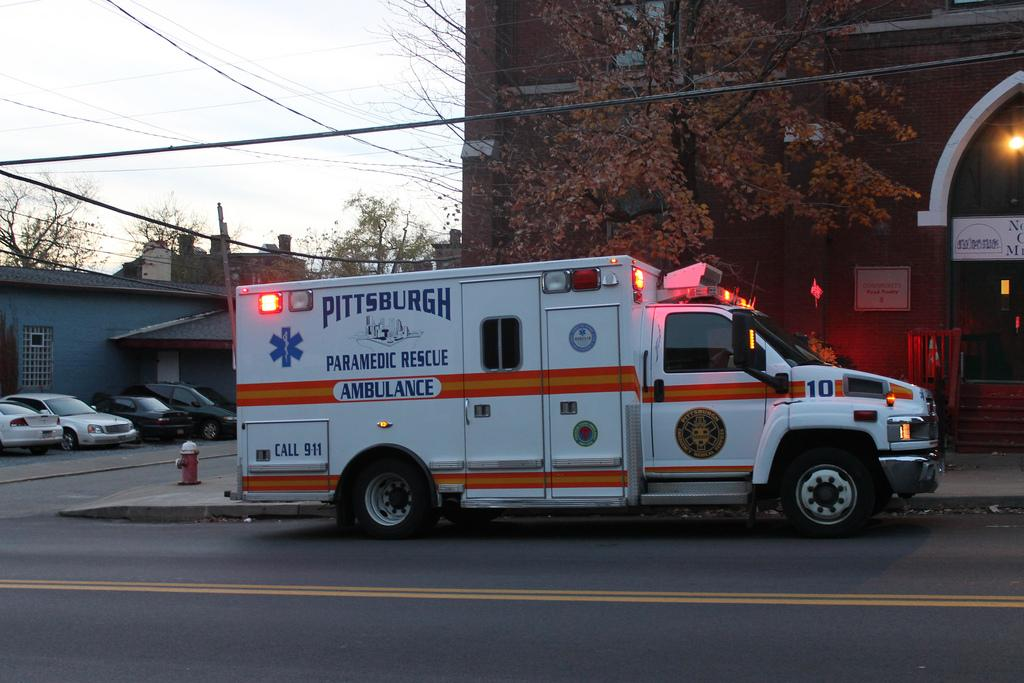ambulance_on: (233, 255, 943, 539)
